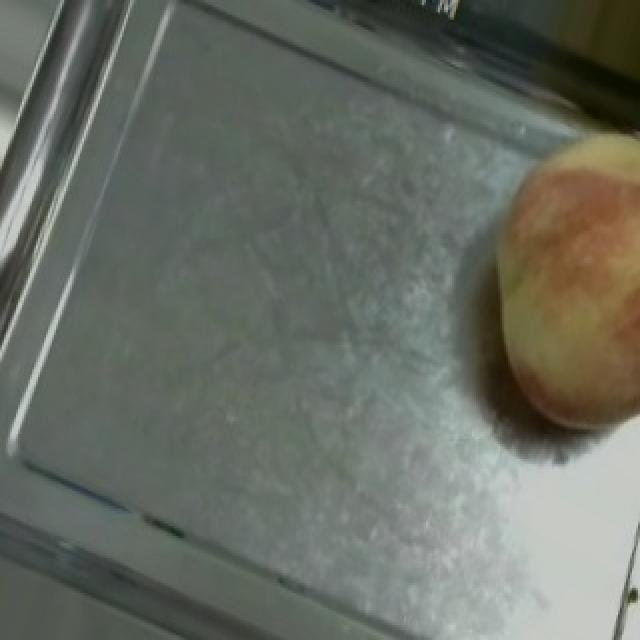Fruit: (440, 97, 640, 459)
